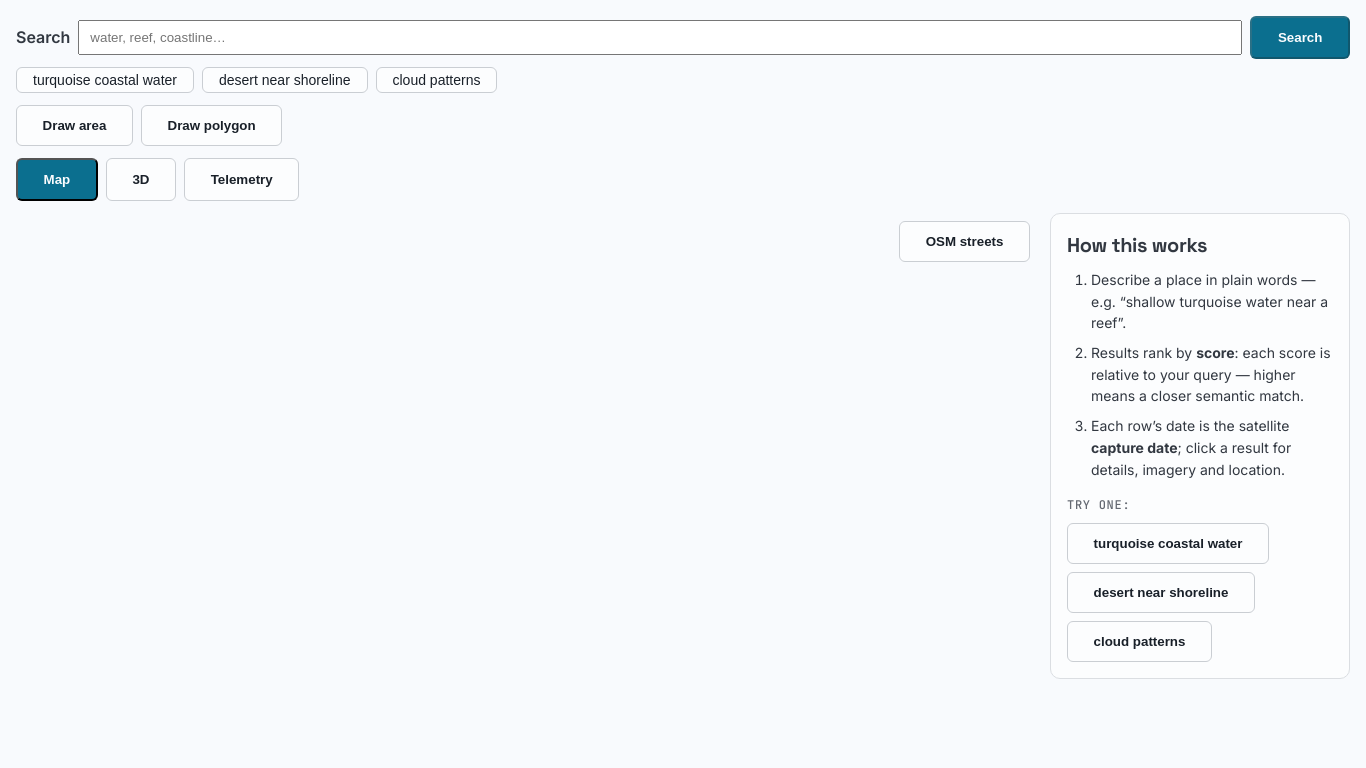
dashboard search UI › surfaces ApiError messages from a failed search
Type "water" into the search field labelled "Search".
click(660, 38); type("water")  # box [78,20,1242,55]
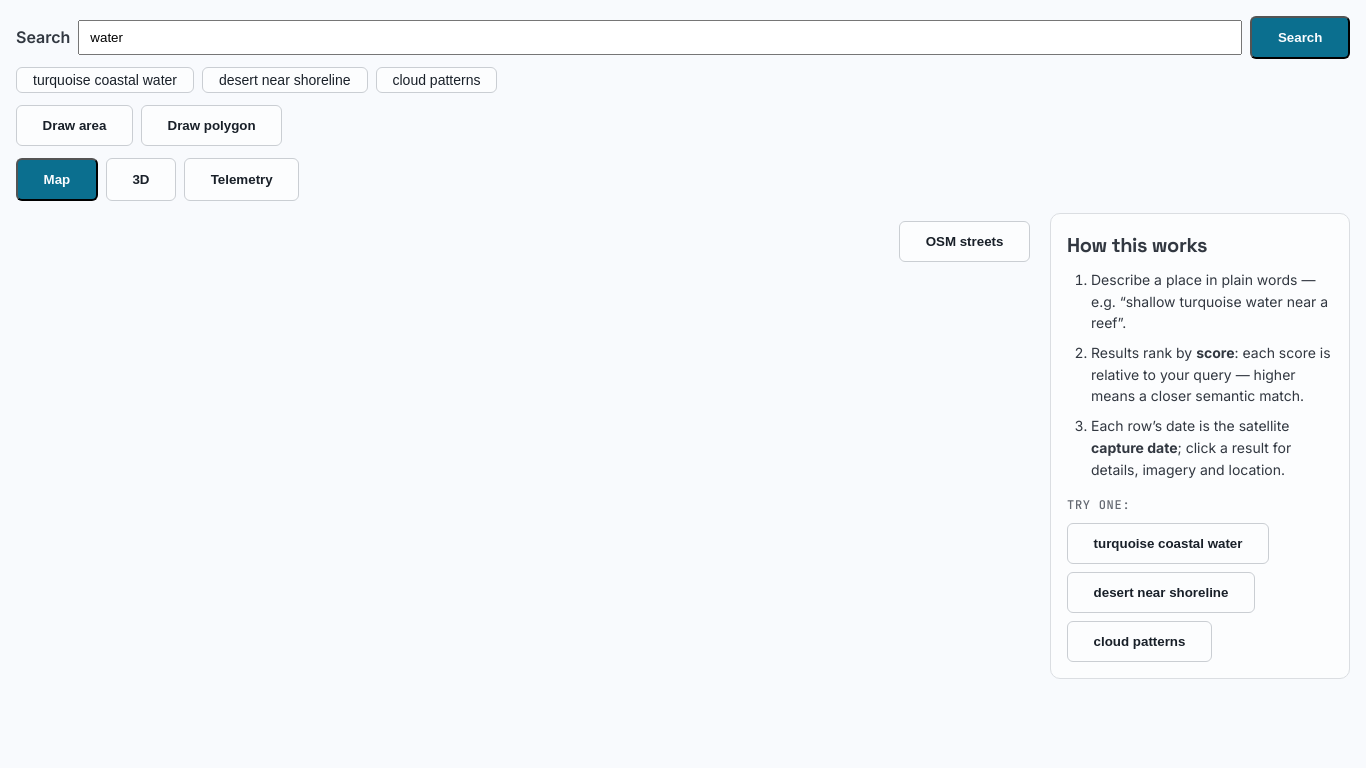
Click the button "Search".
click(1300, 38)  # box [1250,16,1350,59]
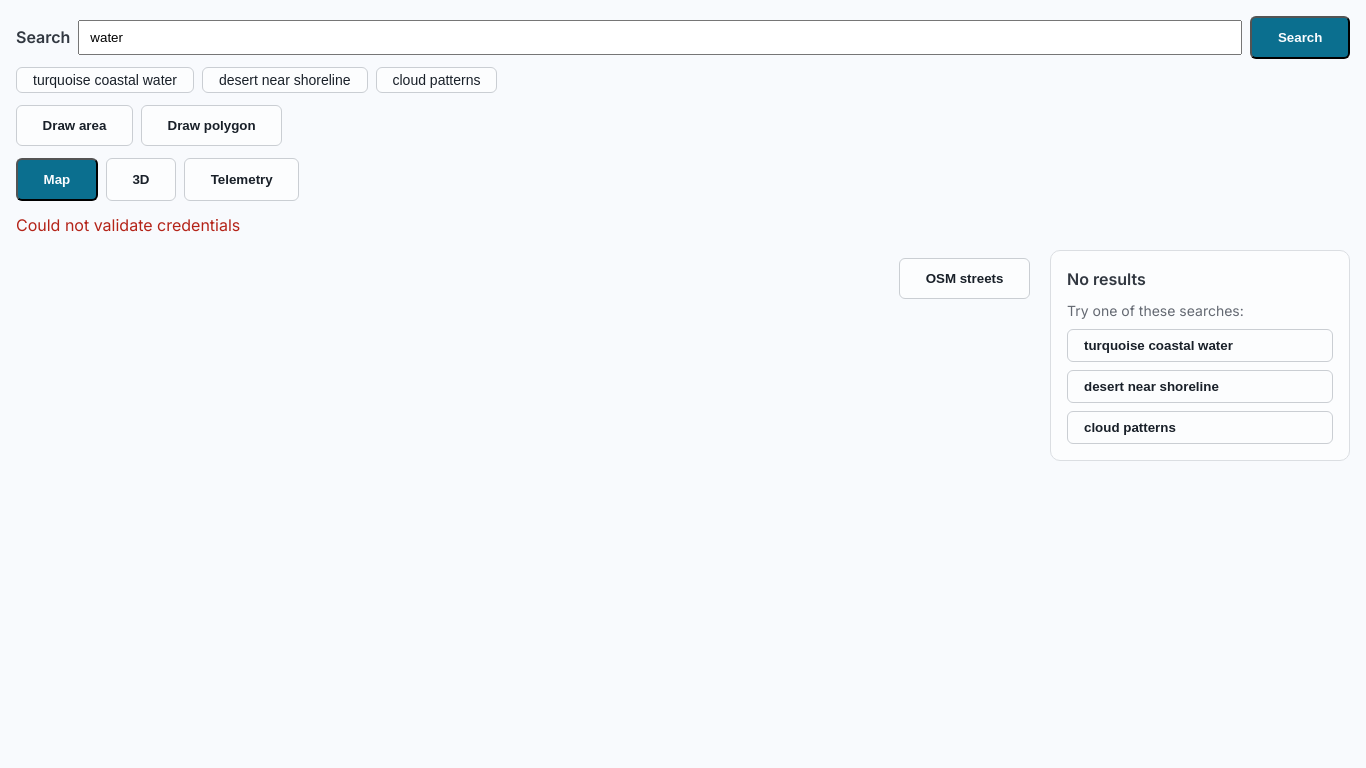
Expected: the message reads "Could not validate credentials", [16,215,240,235]
